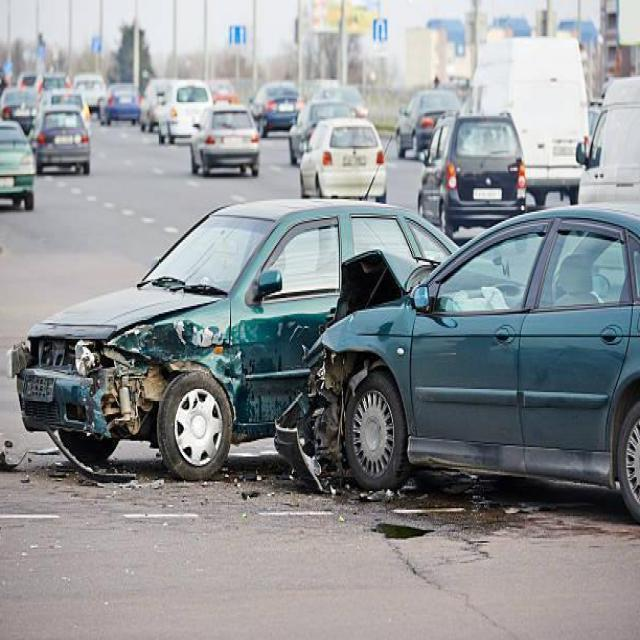accident: (12, 176, 640, 510)
